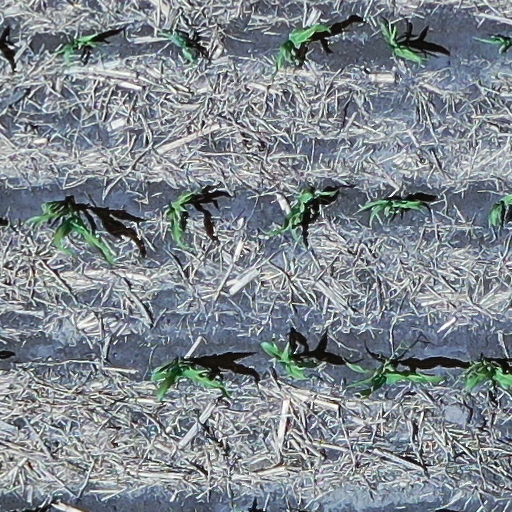planta: (263, 188, 341, 245), (341, 354, 443, 389), (151, 362, 234, 400), (53, 212, 114, 263), (276, 22, 329, 67), (353, 198, 422, 229), (53, 29, 99, 71), (167, 188, 200, 246), (382, 24, 431, 62), (262, 338, 306, 379), (26, 202, 62, 231)
